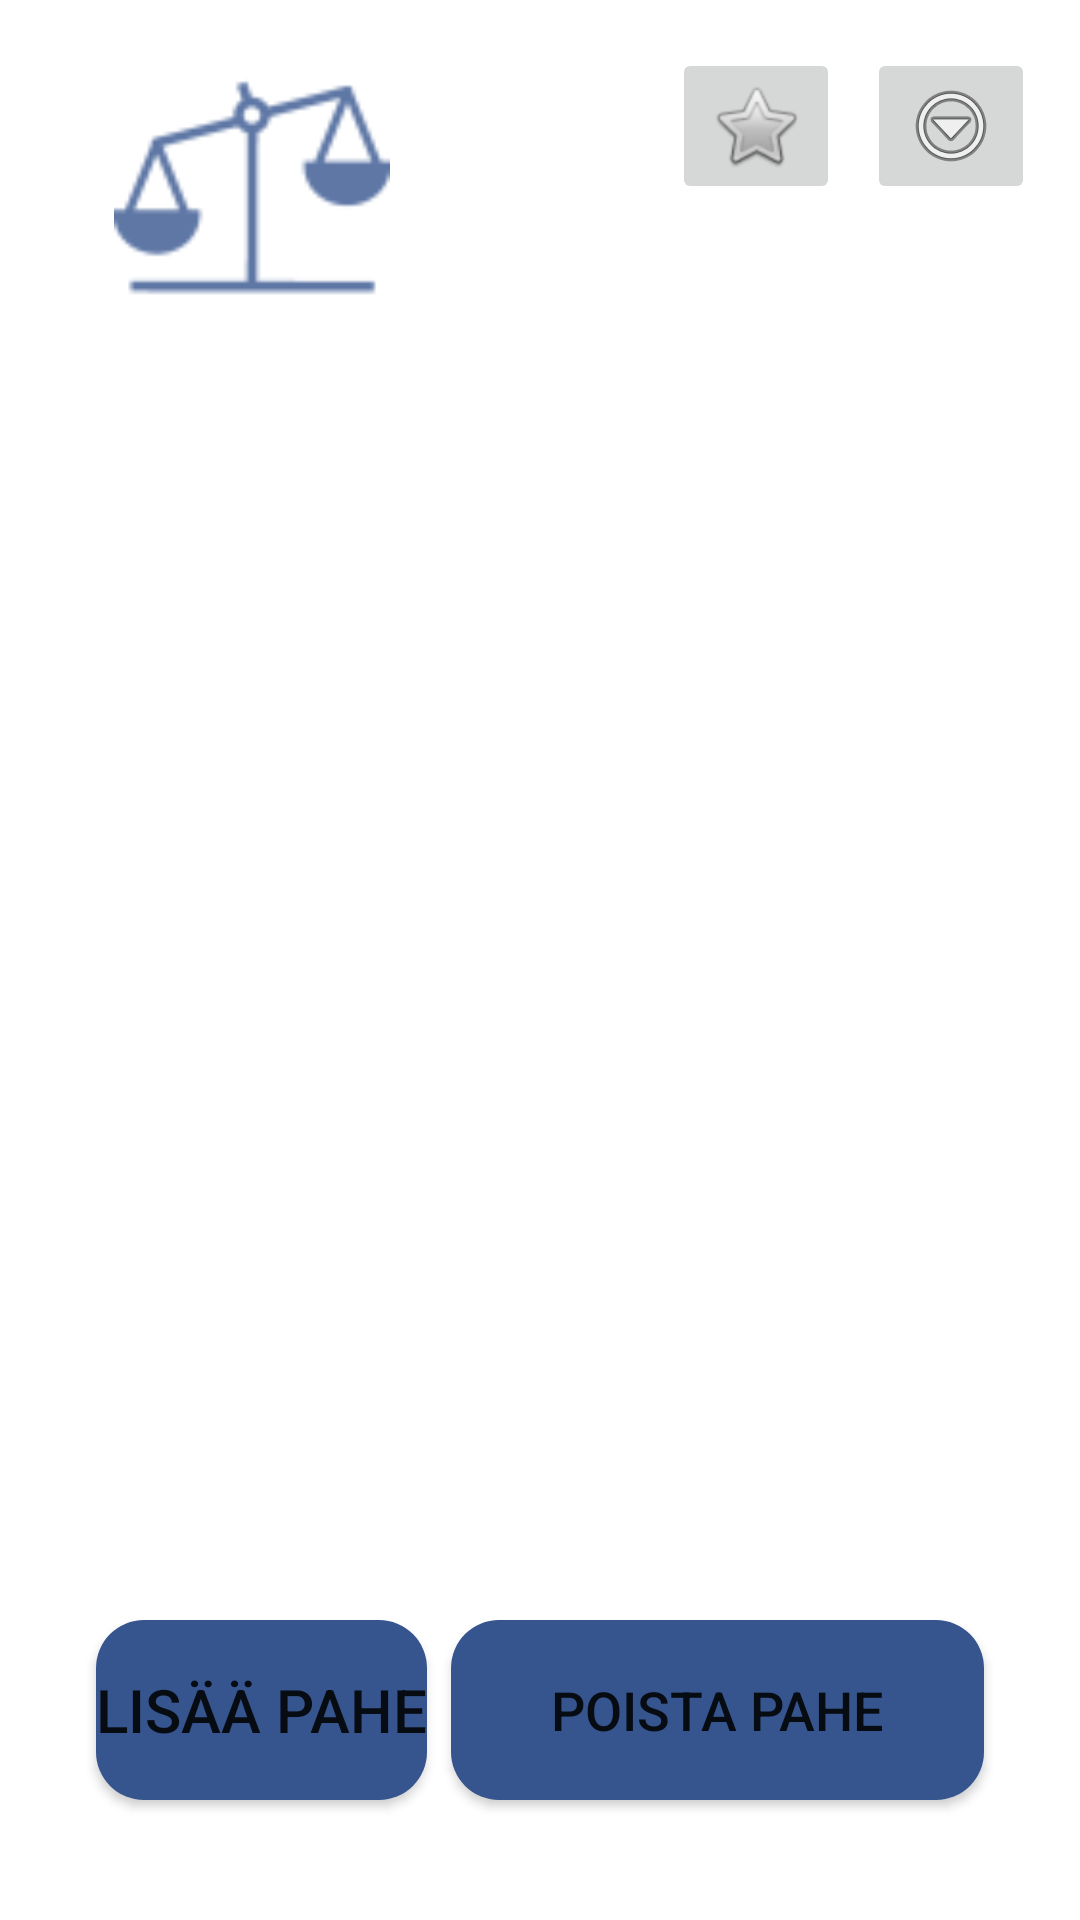

Named icons in this screenshot (1080*1920) and their centers, (x,y):
more: (951,126)
star: (756,126)
